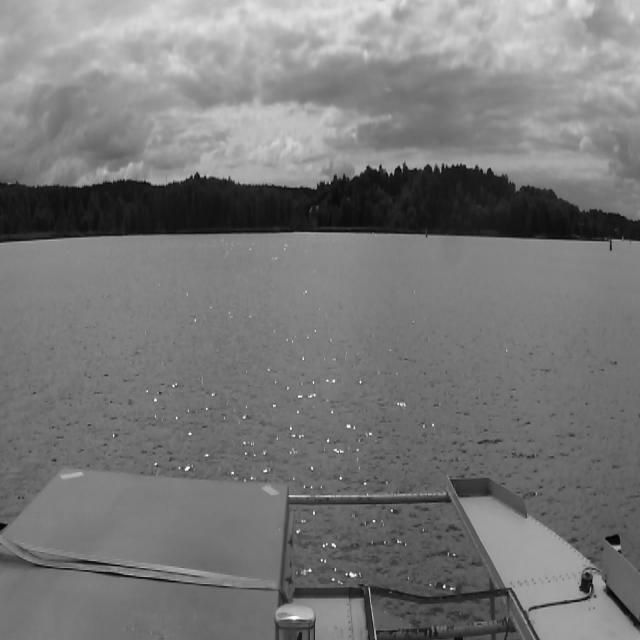buoy: (609, 237, 612, 251), (426, 230, 428, 238)
